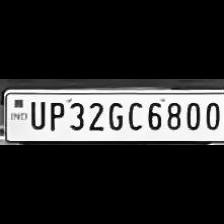0: (182, 99, 202, 130), (202, 99, 222, 130)
2: (86, 98, 104, 132)
3: (66, 98, 86, 132)
6: (144, 98, 162, 132)
8: (164, 99, 182, 130)
C: (125, 98, 143, 132)
G: (104, 98, 124, 132)
P: (45, 98, 65, 132)
U: (27, 98, 46, 130)
